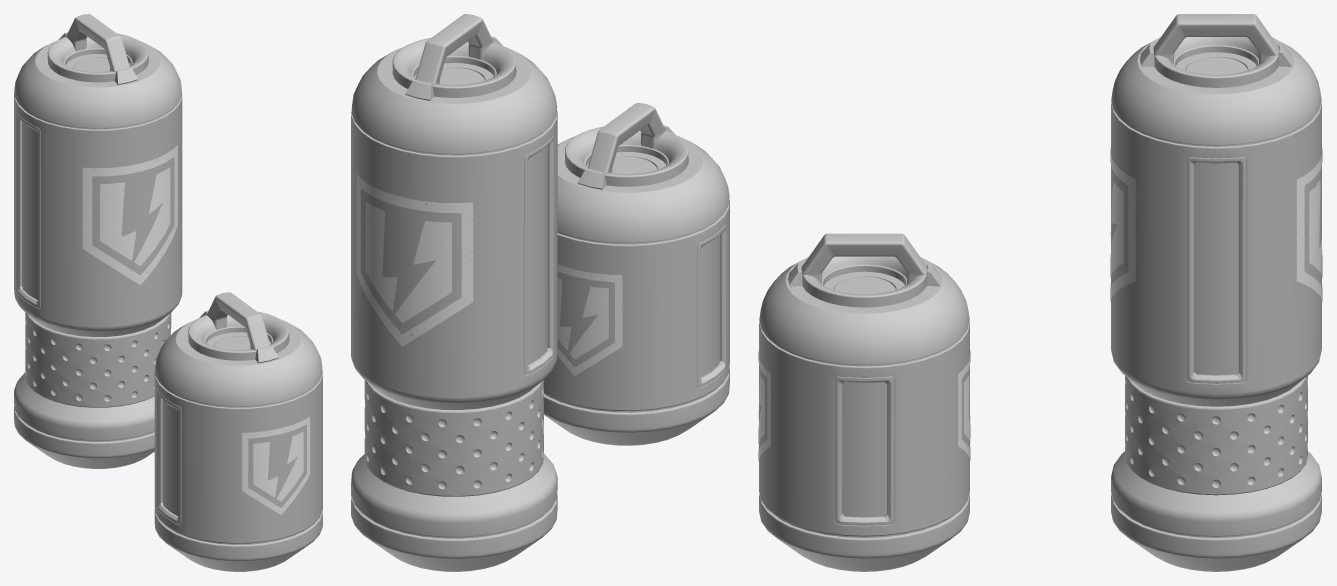
The model's file is Shields.fbx.
3 views of the same model, side by side, from view 1: azimuth 30°, elevation 25°; view 2: azimuth 150°, elevation 25°; view 3: azimuth 270°, elevation 25° (orthographic). The views are drawn at different scales.
Parts seen in each view (by area): view 1: Main_Battery, Main, Decal_Battery, Rid, Rid_Battery, Decal, Inside_Battery, Metal_Flame_Battery, Inside, Metal_Flame; view 2: Main_Battery, Main, Decal_Battery, Rid_Battery, Rid, Inside_Battery, Decal, Metal_Flame_Battery, Inside, Metal_Flame; view 3: Main_Battery, Main, Inside_Battery, Rid, Rid_Battery, Inside, Decal_Battery, Metal_Flame_Battery, Metal_Flame, Decal.
Boxes of the visible parts, x1,y1,x2,y2 form: Main_Battery: [14, 32, 182, 468]; Main: [154, 310, 322, 571]; Decal_Battery: [82, 145, 177, 284]; Rid: [188, 292, 289, 360]; Rid_Battery: [47, 14, 148, 82]; Decal: [242, 416, 310, 514]; Inside_Battery: [22, 121, 38, 299]; Metal_Flame_Battery: [16, 112, 40, 308]; Inside: [162, 400, 178, 516]; Metal_Flame: [157, 391, 181, 524]; Main_Battery: [351, 36, 557, 571]; Main: [543, 125, 729, 445]; Decal_Battery: [356, 174, 473, 346]; Rid_Battery: [392, 14, 515, 97]; Rid: [565, 103, 688, 186]; Inside_Battery: [527, 145, 547, 364]; Decal: [557, 264, 622, 376]; Metal_Flame_Battery: [524, 135, 554, 374]; Inside: [700, 234, 719, 377]; Metal_Flame: [697, 224, 726, 387]; Main_Battery: [1111, 37, 1321, 571]; Main: [759, 257, 969, 571]; Inside_Battery: [1194, 163, 1238, 375]; Rid: [801, 233, 927, 307]; Rid_Battery: [1153, 14, 1279, 87]; Inside: [842, 382, 886, 517]; Decal_Battery: [1110, 148, 1322, 301]; Metal_Flame_Battery: [1186, 156, 1246, 383]; Metal_Flame: [834, 376, 894, 525]; Decal: [758, 350, 970, 460].
Size of the model in its own units: 6 by 16.63 by 16.04.
